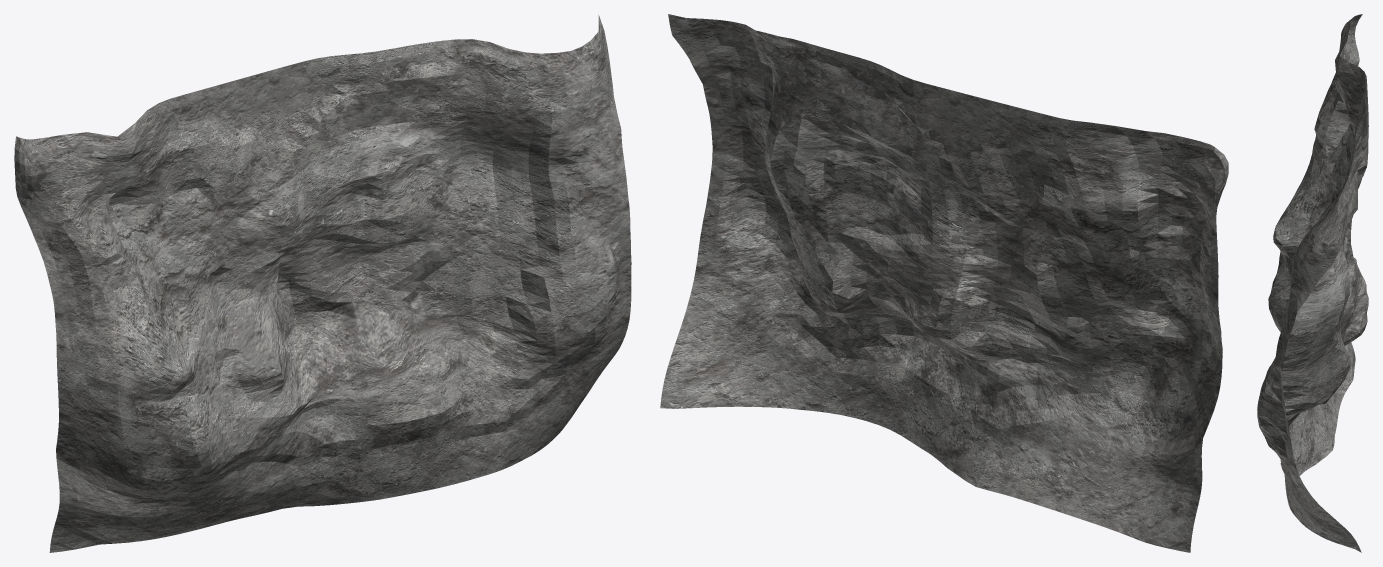
File: worldP3.obj
The picture shows the model from 3 angles, left to right: view 1: azimuth 30°, elevation 25°; view 2: azimuth 150°, elevation 25°; view 3: azimuth 270°, elevation 25°; orthographic projection. The views are drawn at different scales.
Parts seen in each view (by area): view 1: Plane.009; view 2: Plane.009; view 3: Plane.009.
Part boxes in pixels (x1,y1,x2,y2): Plane.009: [14, 15, 631, 552]; Plane.009: [660, 14, 1228, 552]; Plane.009: [1257, 14, 1368, 552].
Bounding box in the file's own units: 507 × 356 × 107.
